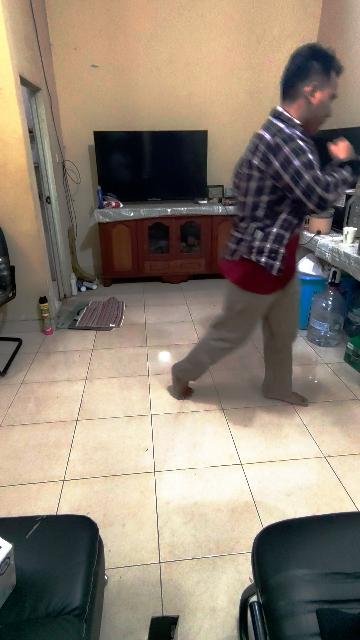berlari: (162, 44, 354, 408)
